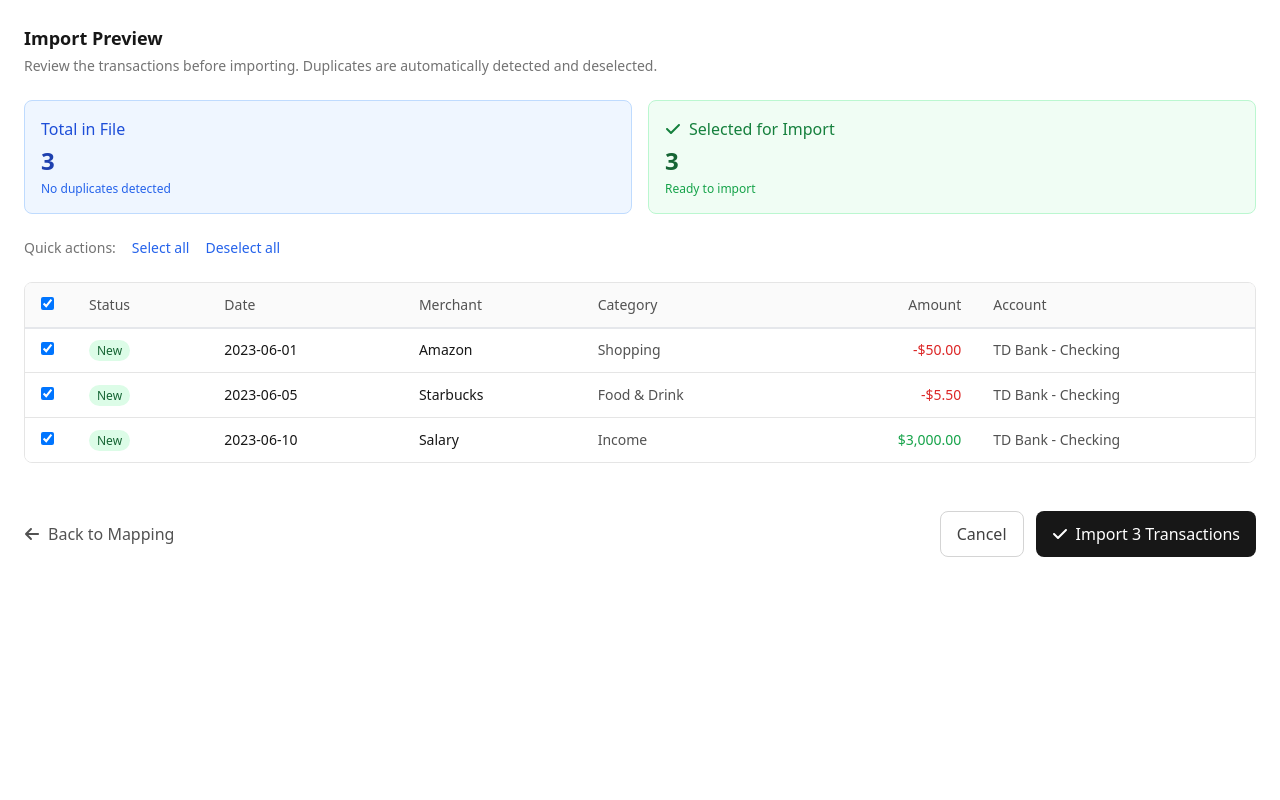
Test: ImportPreviewStep › Error Handling › shows error when import fails
What coordinates should you click on to do the following:
click the button "Import 3 Transactions"
I would click on:
 (1146, 534)
Its box is 1036,511 -> 1256,557.
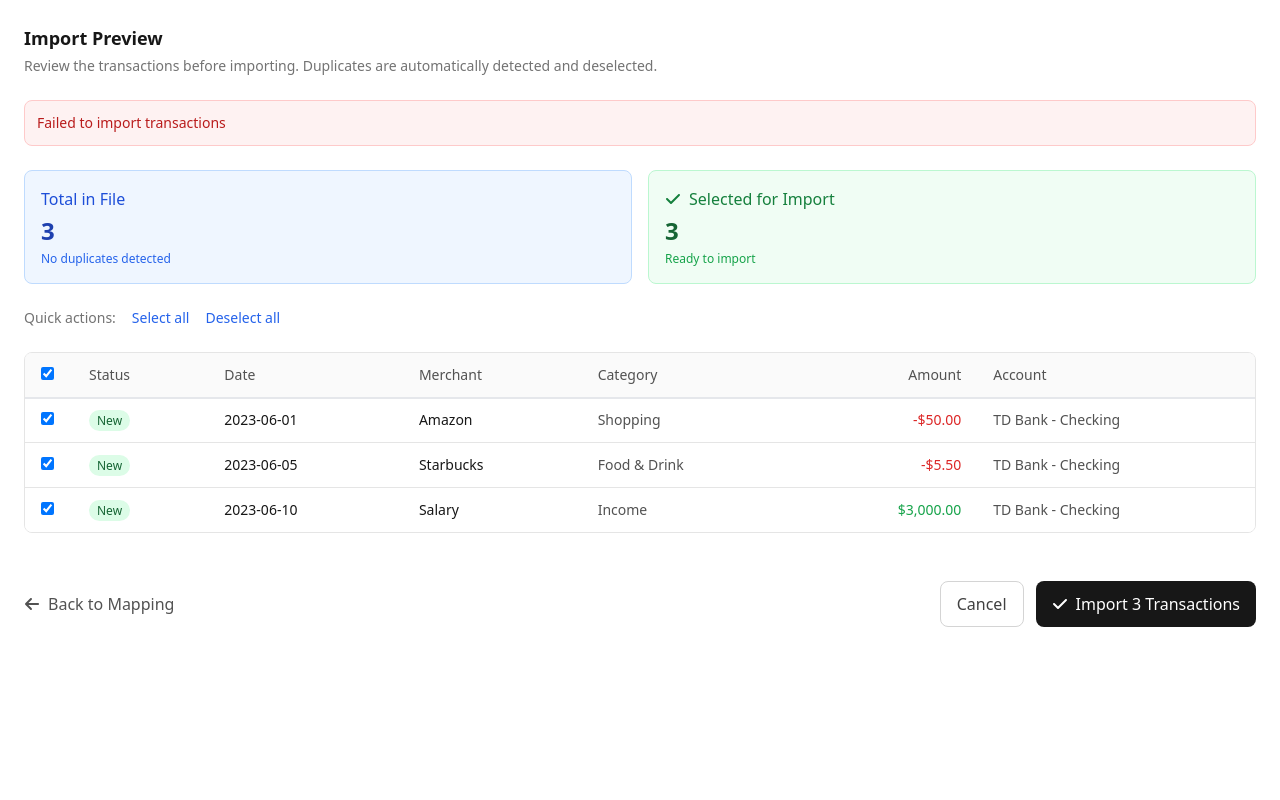
Expected: the text "Failed to import transactions" is shown, 24,100 -> 1256,146
